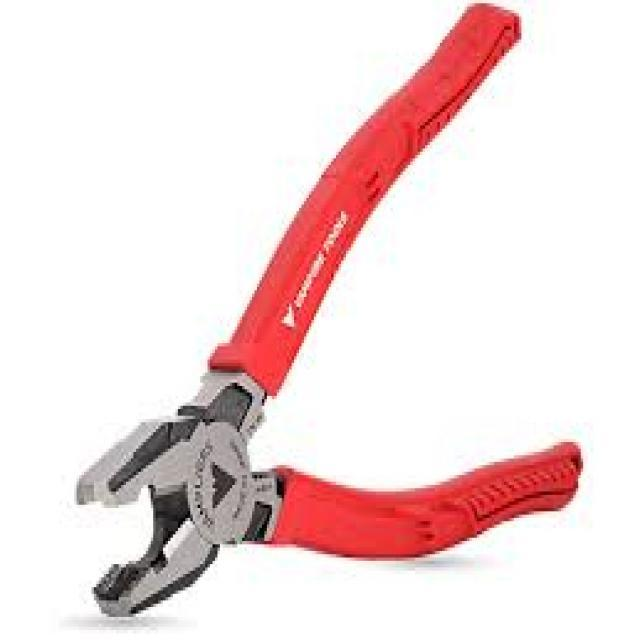pliers: (73, 3, 602, 620)
